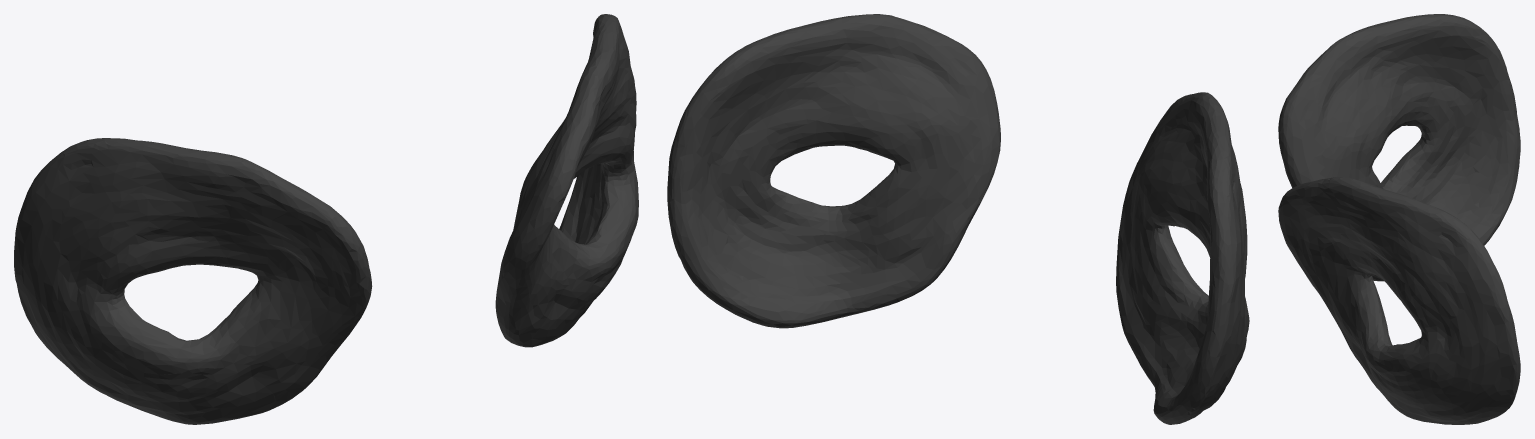
The model's file is m_orbicularis_oculi.glb.
The picture shows the model from 3 angles, left to right: view 1: azimuth 30°, elevation 25°; view 2: azimuth 150°, elevation 25°; view 3: azimuth 270°, elevation 25°; orthographic projection. The views are drawn at different scales.
Parts seen in each view (by area): view 1: m_orbicularis_oculi; view 2: m_orbicularis_oculi; view 3: m_orbicularis_oculi.
Part boxes in pixels (left/top/right/bottom): m_orbicularis_oculi: left=14, top=14, right=638, bottom=424; m_orbicularis_oculi: left=667, top=14, right=1249, bottom=424; m_orbicularis_oculi: left=1278, top=14, right=1520, bottom=424.
Bounding box in the file's own units: 0.00238 × 0.00112 × 0.00103.
1 material, 1 textured.
